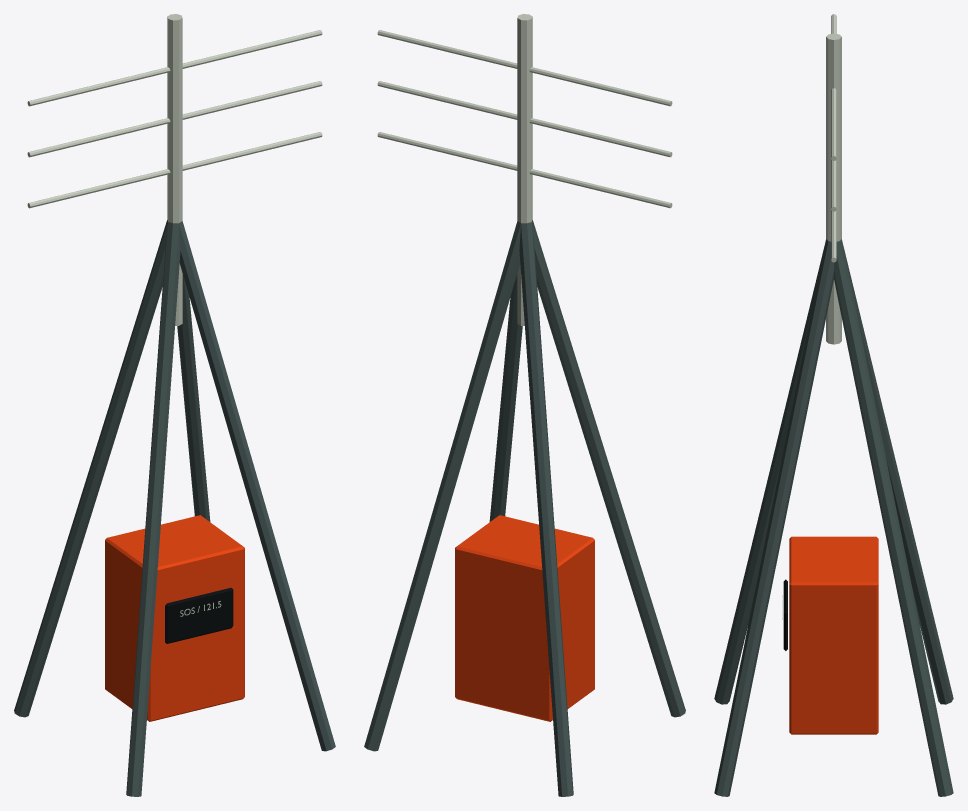
The model's file is SM_MP_Rescue_Antenna.fbx.
The picture shows the model from 3 angles, left to right: view 1: azimuth 30°, elevation 25°; view 2: azimuth 150°, elevation 25°; view 3: azimuth 270°, elevation 25°; orthographic projection.
Parts seen in each view (by area): view 1: SM_MP_Rescue_Antenna; view 2: SM_MP_Rescue_Antenna; view 3: SM_MP_Rescue_Antenna.
Part boxes in pixels (box(x1,y1,x2,y2)): SM_MP_Rescue_Antenna: box(14, 14, 335, 796); SM_MP_Rescue_Antenna: box(364, 14, 685, 796); SM_MP_Rescue_Antenna: box(714, 14, 953, 796).
Size of the model in its own units: 300 by 214 by 702.
Materials: 1 (1 with a texture image).
